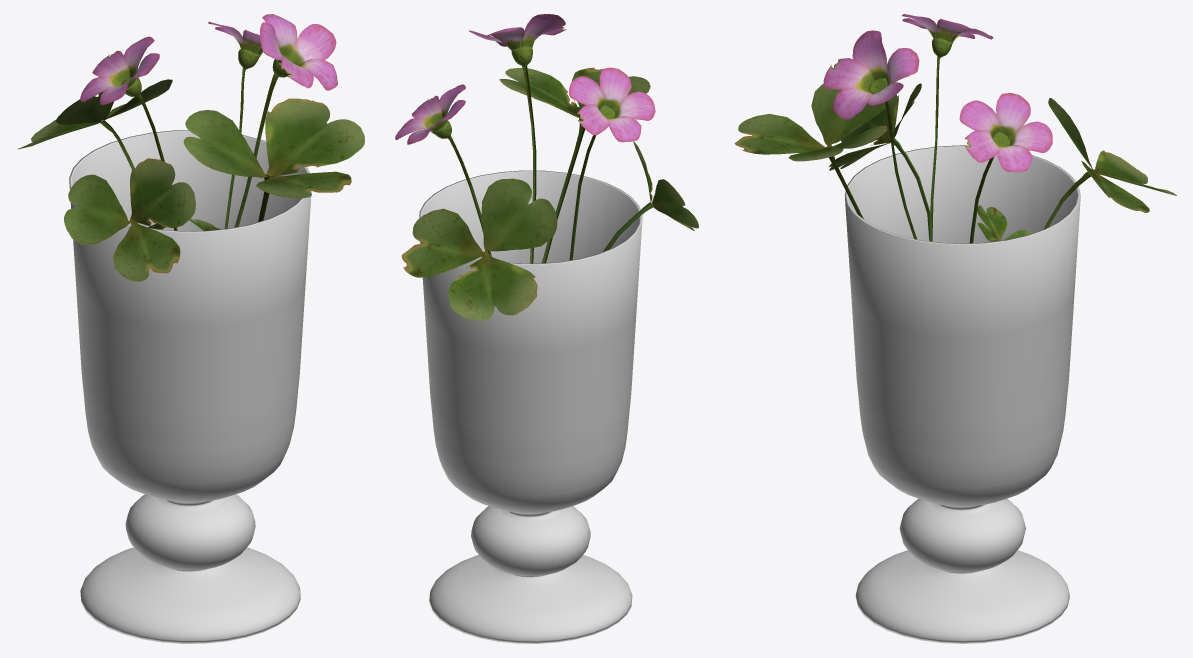
The model's file is vase-flowers.glb.
3 renders of one model, left to right at view 1: azimuth 30°, elevation 25°; view 2: azimuth 150°, elevation 25°; view 3: azimuth 270°, elevation 25°, orthographic. The views are drawn at different scales.
Visible parts, largest first — view 1: GlassTransmission, Flowers2; view 2: GlassTransmission, Flowers2; view 3: GlassTransmission, Flowers2.
Part boxes in pixels (box(x1,y1,x2,y2)): GlassTransmission: box(69, 130, 311, 643); Flowers2: box(18, 14, 364, 281); GlassTransmission: box(419, 170, 642, 643); Flowers2: box(395, 14, 698, 320); GlassTransmission: box(844, 145, 1080, 643); Flowers2: box(734, 14, 1176, 243).
Size of the model in its own units: 0.0973 by 0.2032 by 0.1425.
2 materials, 1 textured.
